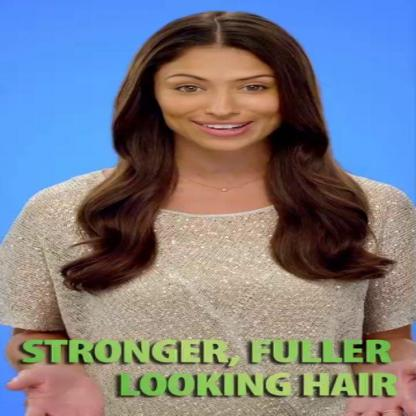long-hair: (87, 150, 354, 190)
